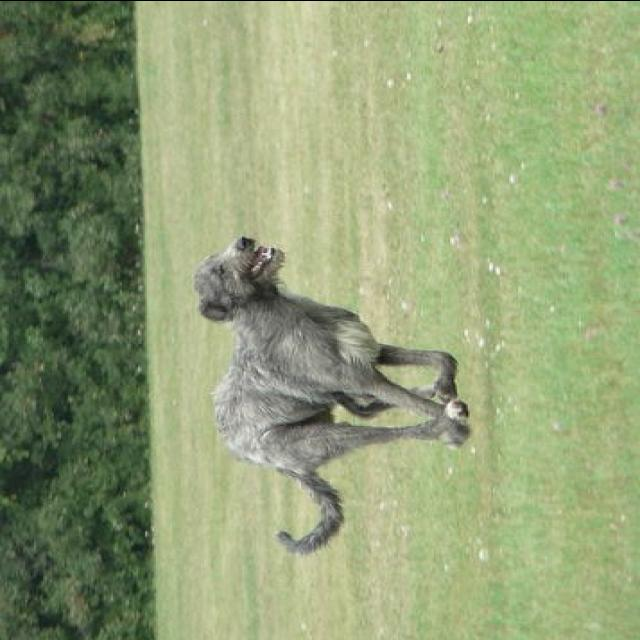irish_wolfhound: (186, 233, 469, 555)
